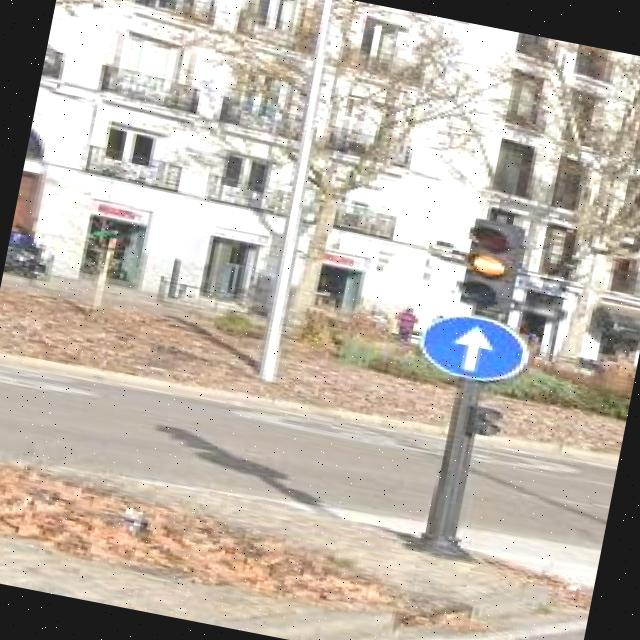yellow_light: (460, 216, 521, 310)
